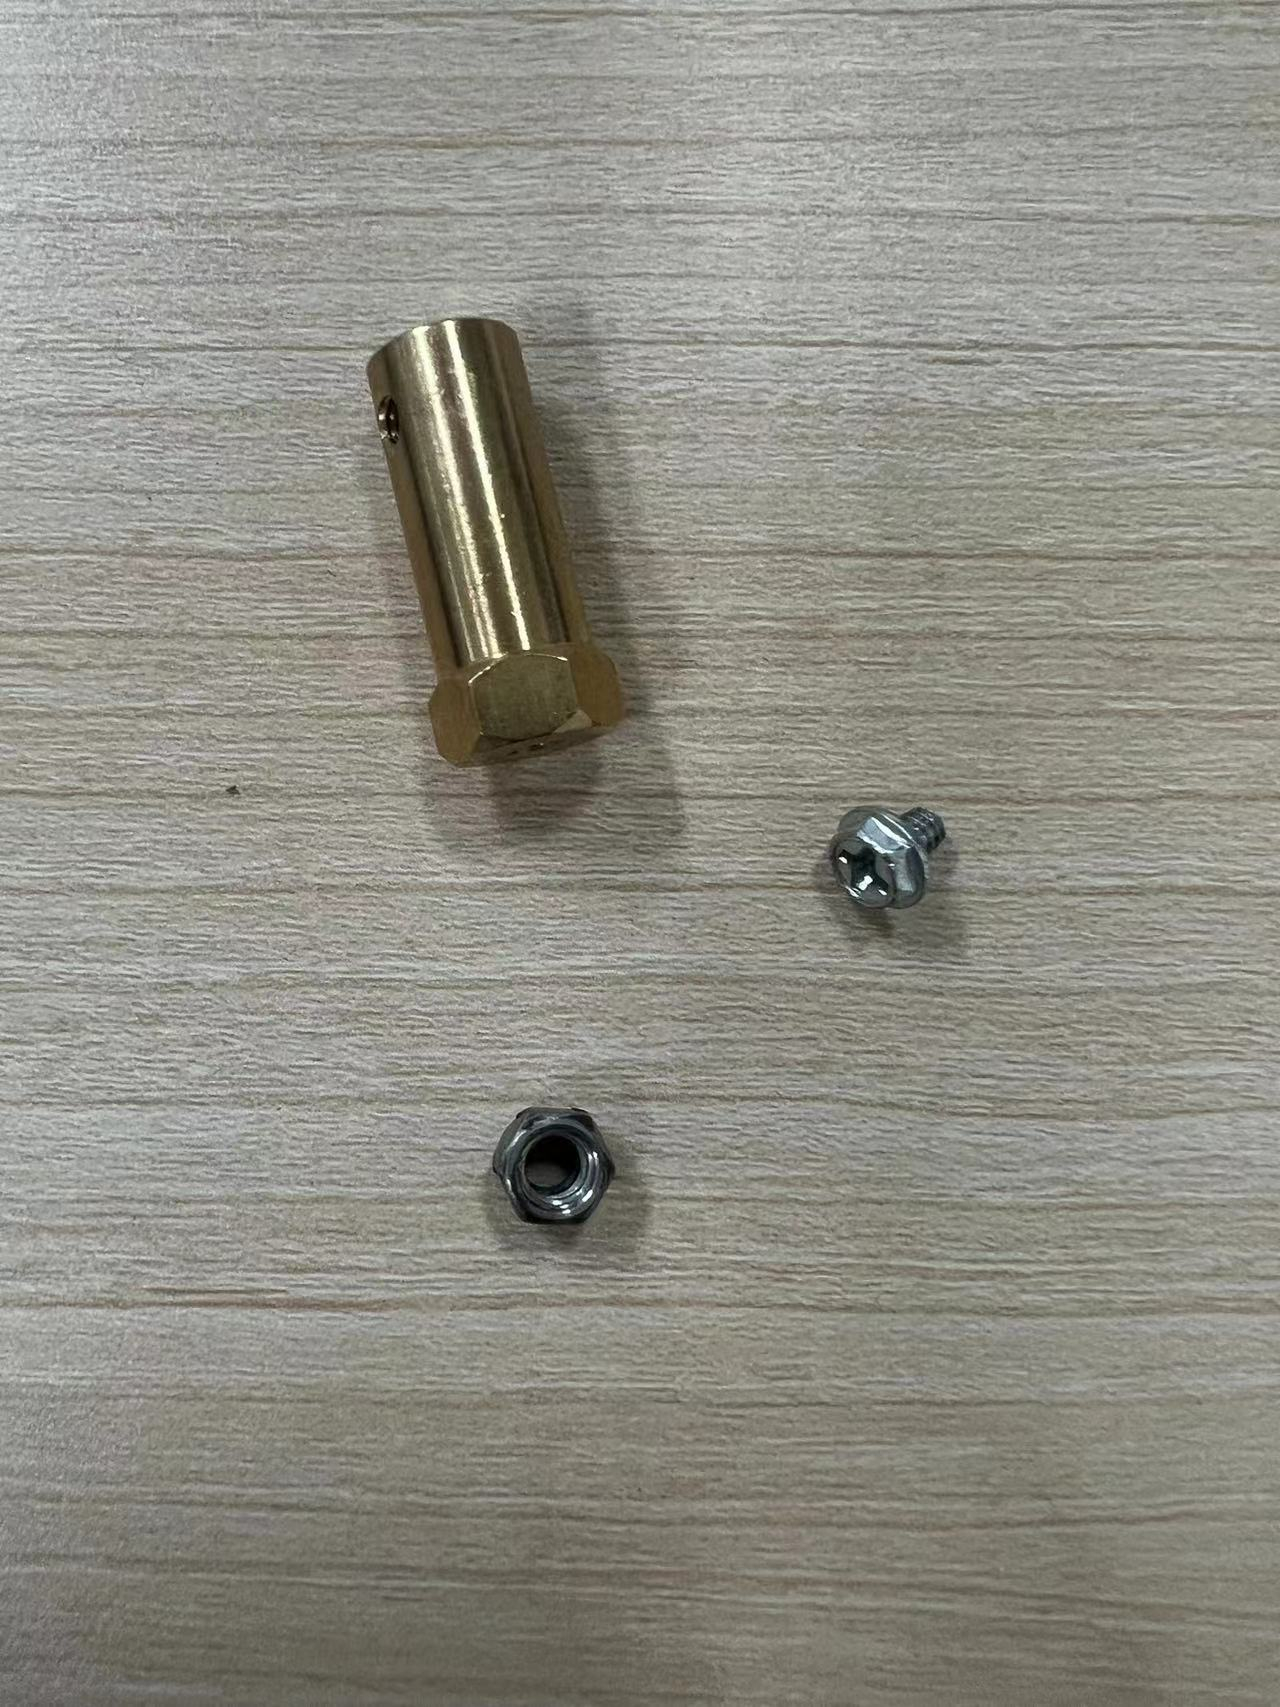Hexagon nut: (467, 1083, 643, 1238)
Hexagon pillar: (337, 302, 651, 793)
Hexagon screw: (796, 778, 987, 929)
